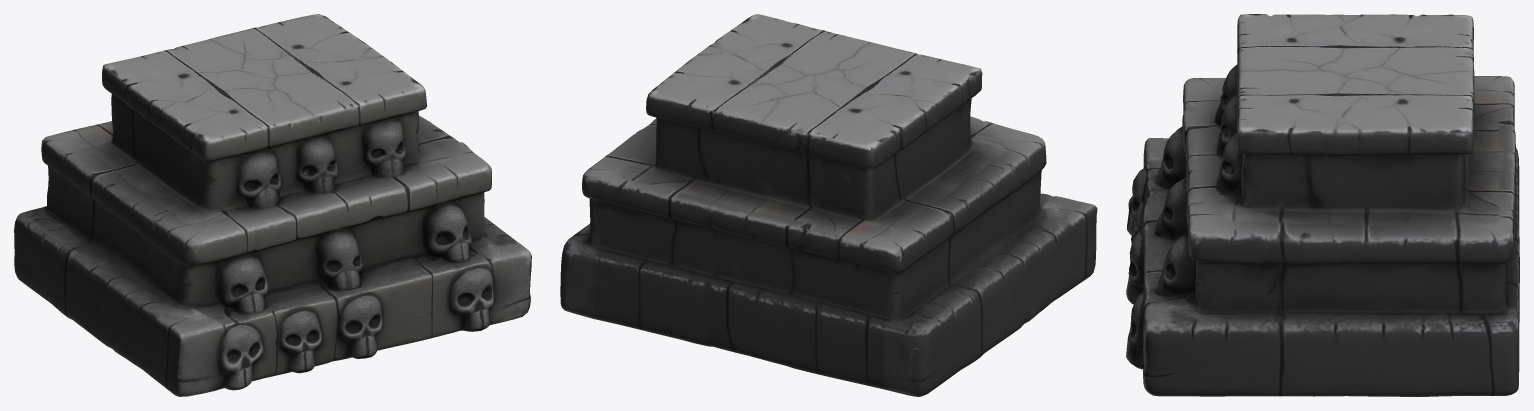
File: throne_dais.glb
3 views of the same model, side by side, from view 1: azimuth 30°, elevation 25°; view 2: azimuth 150°, elevation 25°; view 3: azimuth 270°, elevation 25° (orthographic). The views are drawn at different scales.
Size of the model in its own units: 2 by 1.15 by 1.74.
Materials: 1 (1 with a texture image).
